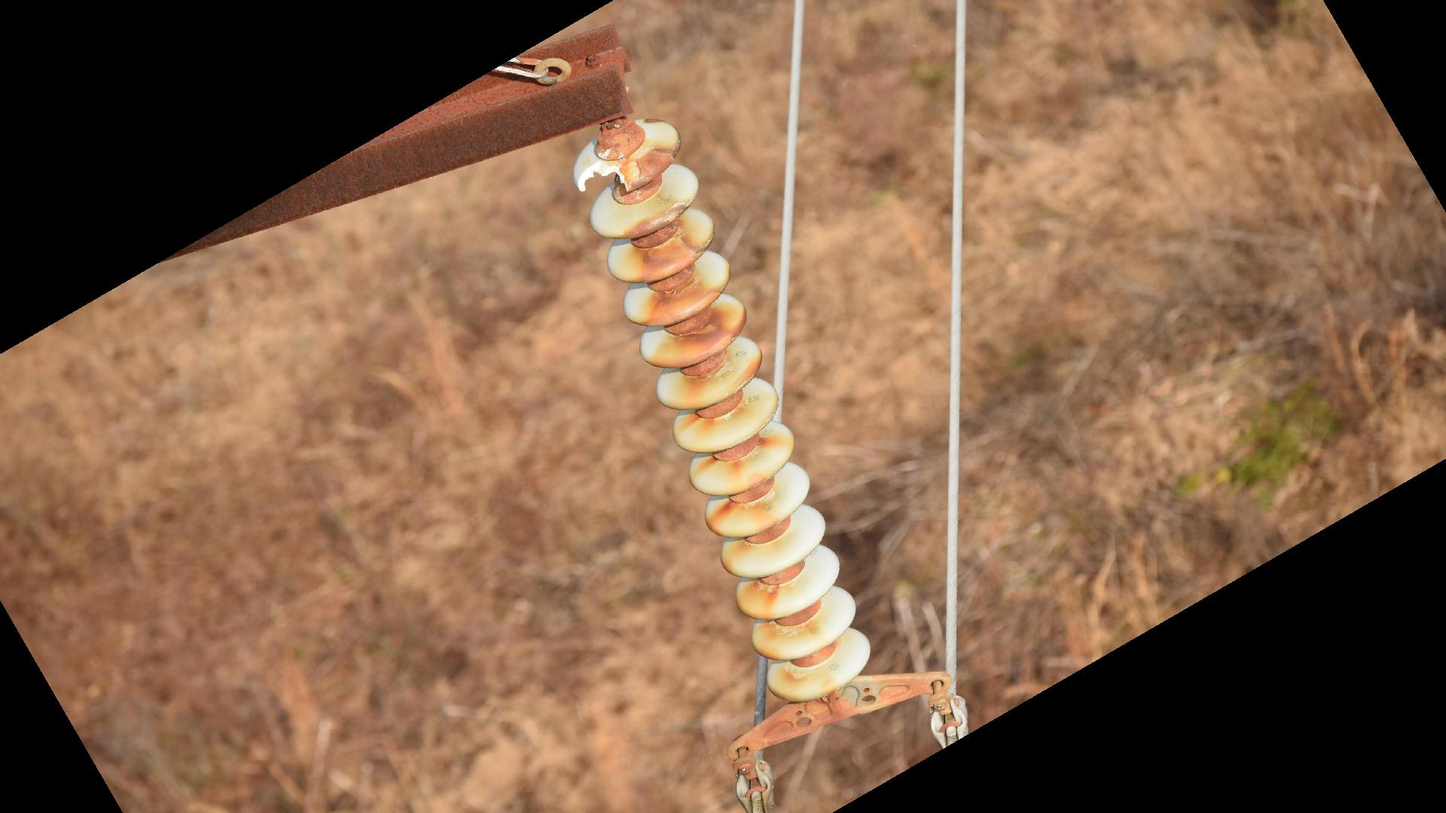insulator: (568, 114, 875, 708)
insulator_breakage: (573, 158, 635, 201)
